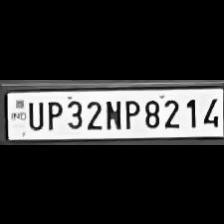1: (180, 94, 198, 128)
2: (161, 96, 181, 128), (84, 96, 102, 130)
3: (64, 96, 82, 130)
4: (200, 94, 220, 126)
8: (140, 96, 160, 128)
N: (103, 96, 121, 130)
P: (120, 96, 140, 130), (44, 97, 62, 129)
U: (24, 97, 43, 129)
